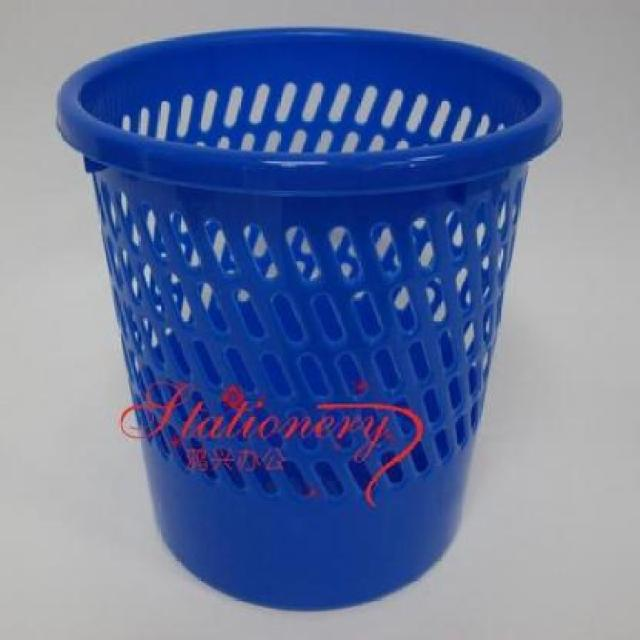dustbin: (51, 22, 569, 616)
